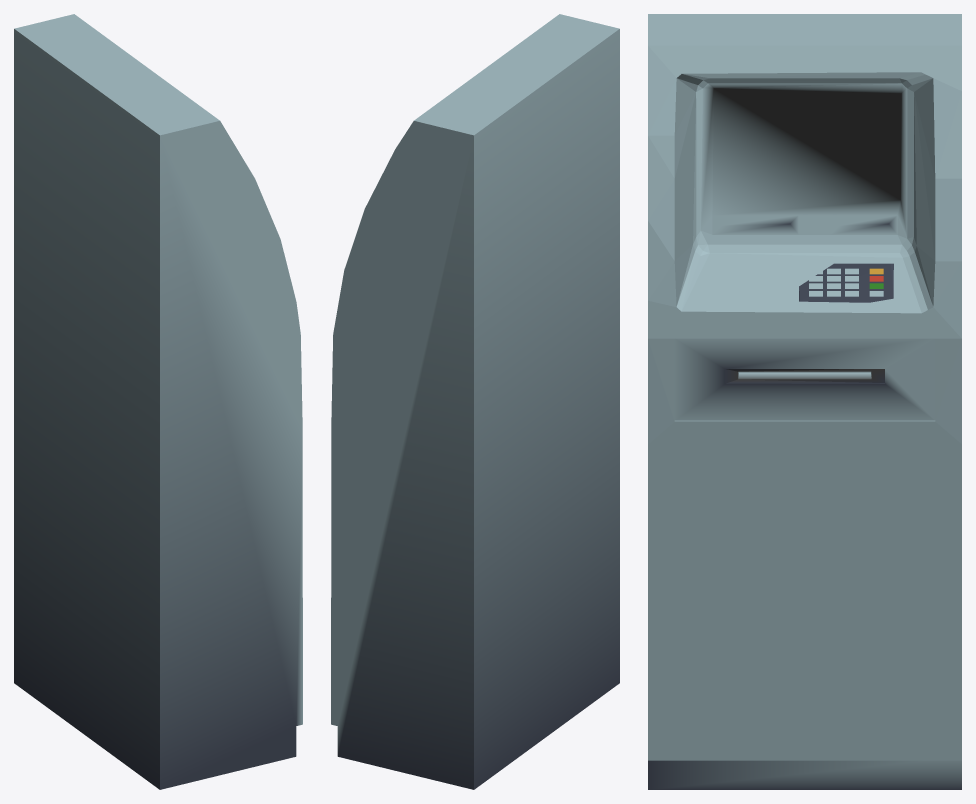
Rendered from dab--QuZ7ngJ.glb.
3 views of the same model, side by side, from view 1: azimuth 30°, elevation 25°; view 2: azimuth 150°, elevation 25°; view 3: azimuth 270°, elevation 25° (orthographic). The views are drawn at different scales.
Parts seen in each view (by area): view 1: 17.4.Model_Cube.152; view 2: 17.4.Model_Cube.152; view 3: 17.4.Model_Cube.152.
Boxes of the visible parts, x1=… form: 17.4.Model_Cube.152: x1=14, y1=14, x2=302, y2=789; 17.4.Model_Cube.152: x1=331, y1=14, x2=619, y2=789; 17.4.Model_Cube.152: x1=648, y1=14, x2=961, y2=789.
Bounding box in the file's own units: 0.4003 × 1.75 × 0.7074.
